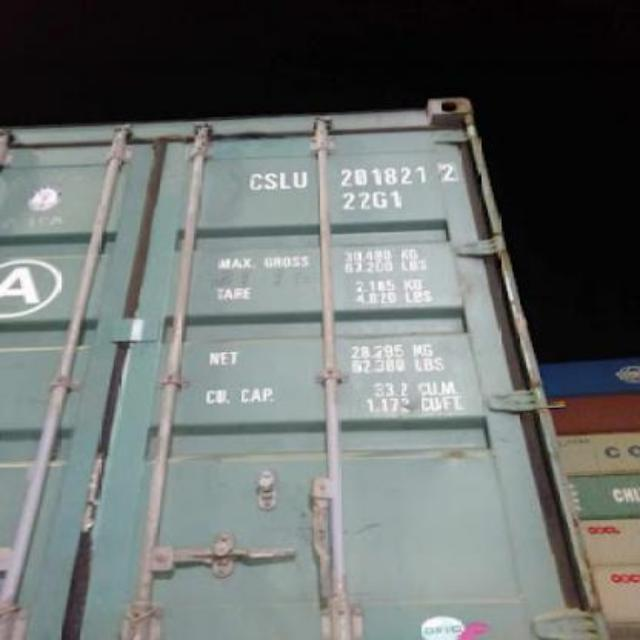0: (352, 166, 368, 188)
1: (366, 160, 382, 188), (414, 158, 428, 188)
2: (436, 154, 460, 188), (396, 160, 412, 186), (336, 165, 352, 189)
8: (382, 160, 398, 190)
C: (248, 167, 262, 196)
L: (276, 166, 290, 192)
S: (262, 168, 278, 194)
U: (290, 165, 308, 191)
